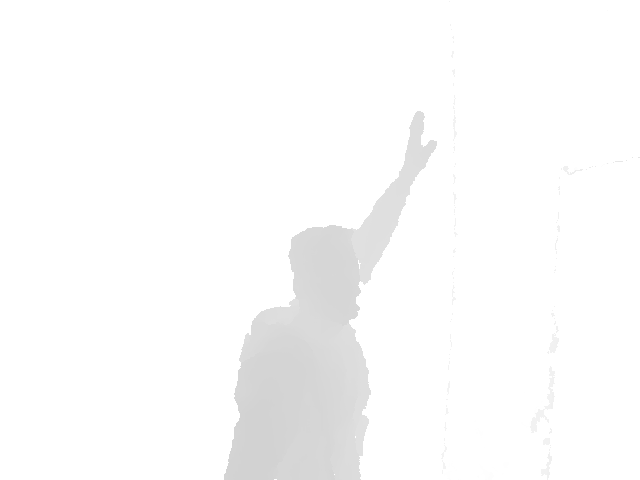hand: (403, 109, 439, 171)
head: (287, 224, 363, 323)
person: (221, 109, 439, 480)
